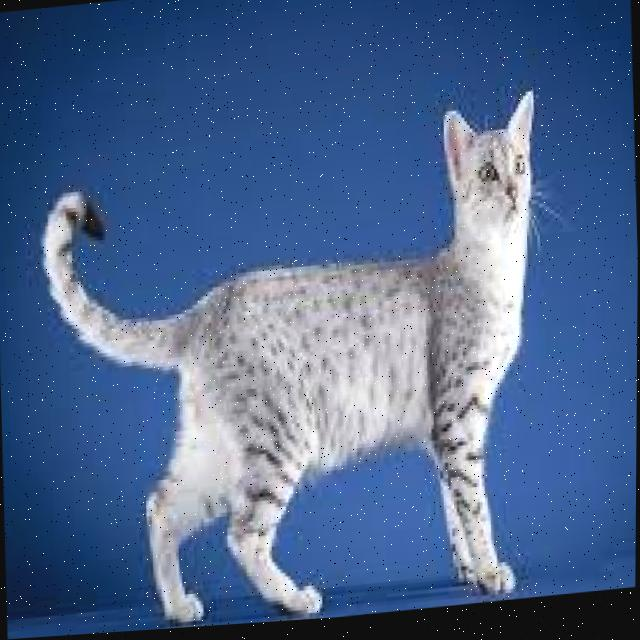Egyptian Mau: (28, 84, 557, 638)
